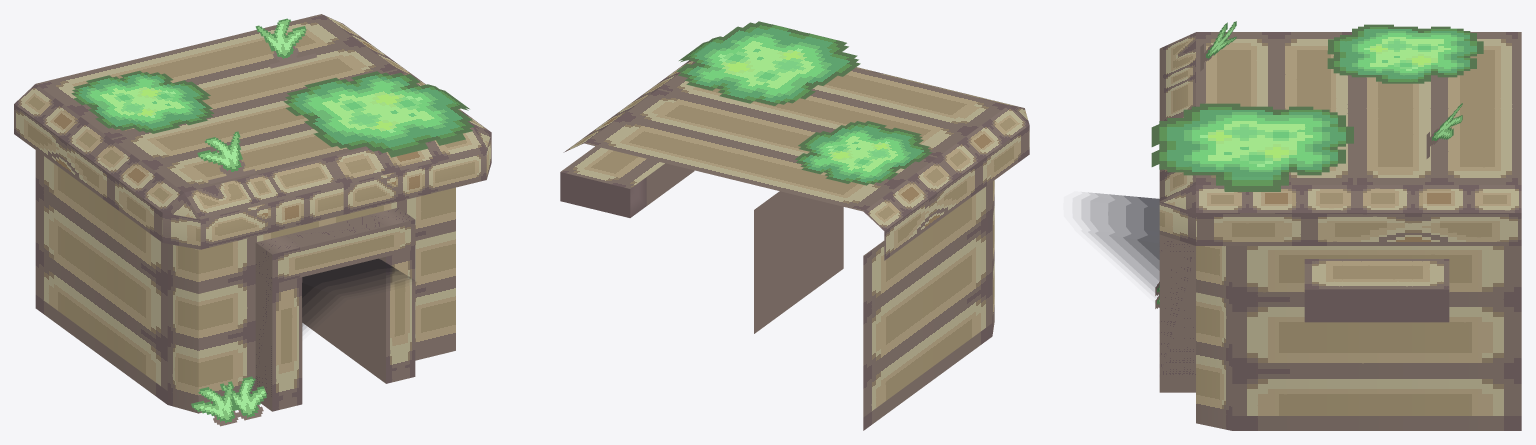
The picture shows the model from 3 angles, left to right: view 1: azimuth 30°, elevation 25°; view 2: azimuth 150°, elevation 25°; view 3: azimuth 270°, elevation 25°; orthographic projection. The views are drawn at different scales.
Size of the model in its own units: 6.38 by 4.25 by 6.4.
4 materials, 4 textured.
